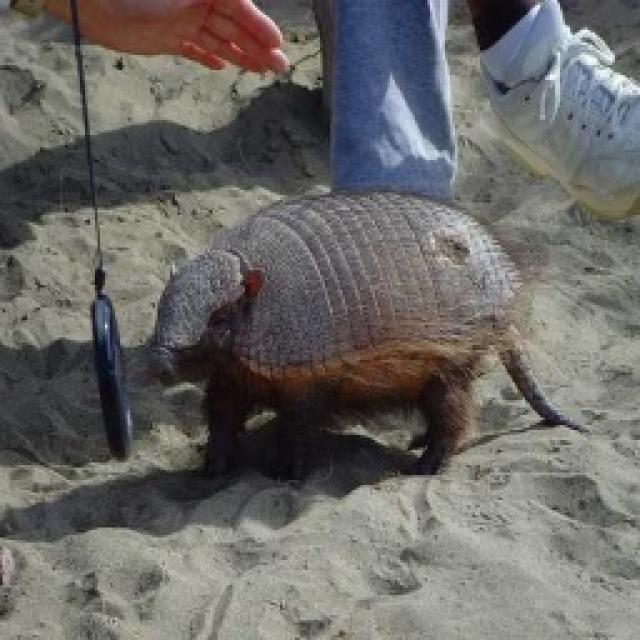pig: (145, 185, 590, 480)
